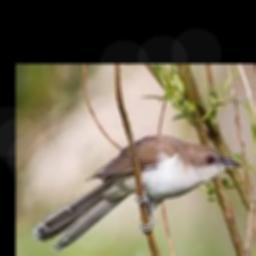Cuckoo: (31, 135, 241, 252)
